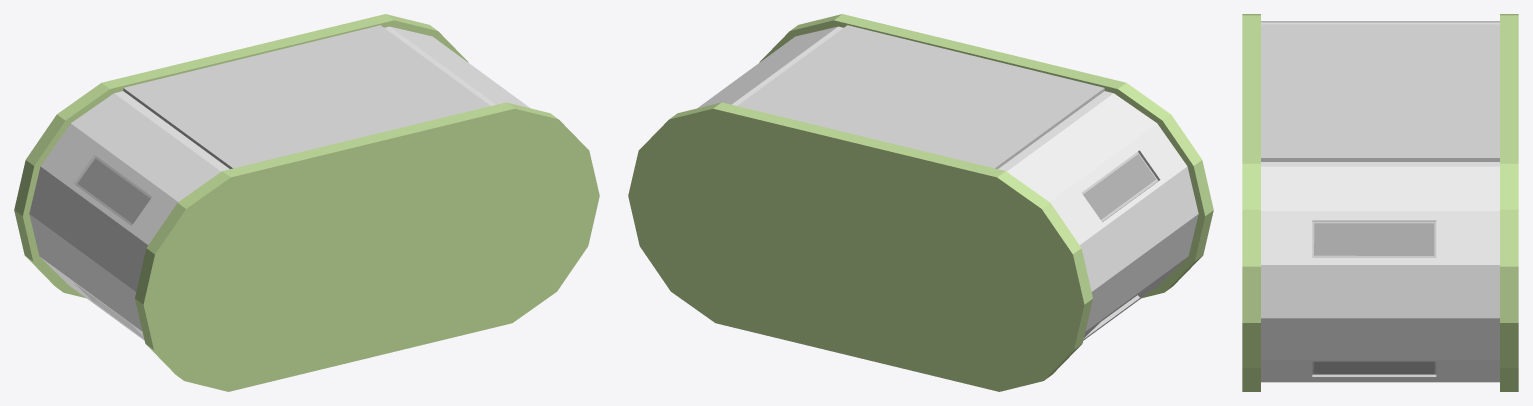
3 renders of one model, left to right at view 1: azimuth 30°, elevation 25°; view 2: azimuth 150°, elevation 25°; view 3: azimuth 270°, elevation 25°, orthographic. The views are drawn at different scales.
Parts seen in each view (by area): view 1: Cylinder_7; view 2: Cylinder_7; view 3: Cylinder_7.
Part boxes in pixels (<box>): Cylinder_7: <box>14,14,599,391</box>; Cylinder_7: <box>628,14,1213,391</box>; Cylinder_7: <box>1242,14,1518,391</box>.
Size of the model in its own units: 975 by 438 by 479.
